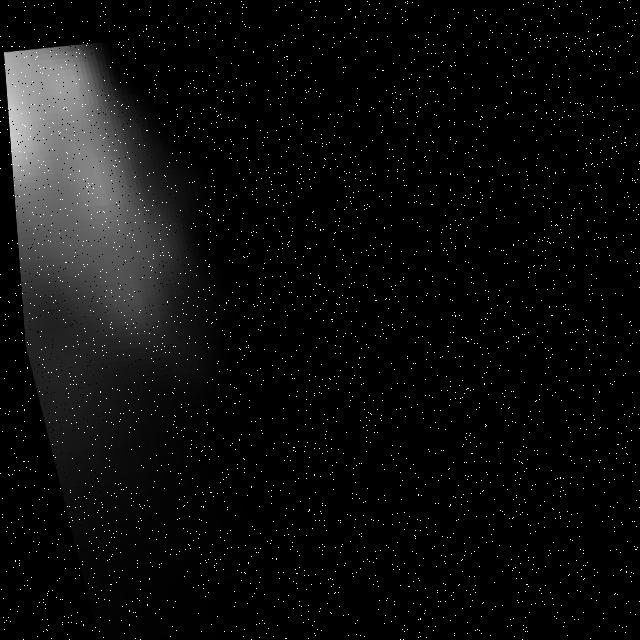person: (2, 25, 277, 578)
